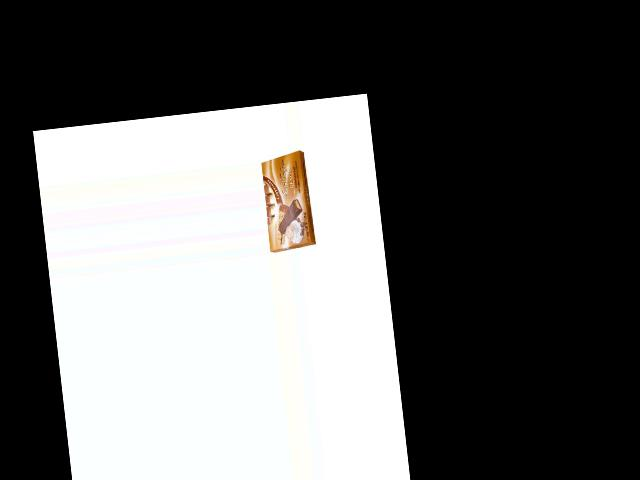chocolate: (258, 147, 316, 253)
